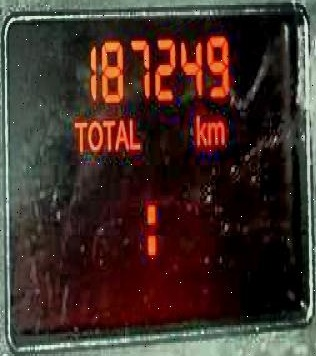1: (87, 38, 97, 100)
2: (154, 34, 174, 103)
4: (178, 36, 202, 94)
7: (130, 33, 150, 98)
8: (99, 36, 122, 102)
9: (206, 34, 228, 96)
X: (144, 194, 157, 265), (86, 116, 101, 151), (207, 116, 223, 147), (72, 116, 86, 151), (101, 116, 115, 149), (195, 109, 206, 147), (114, 118, 127, 149), (129, 116, 140, 149)
